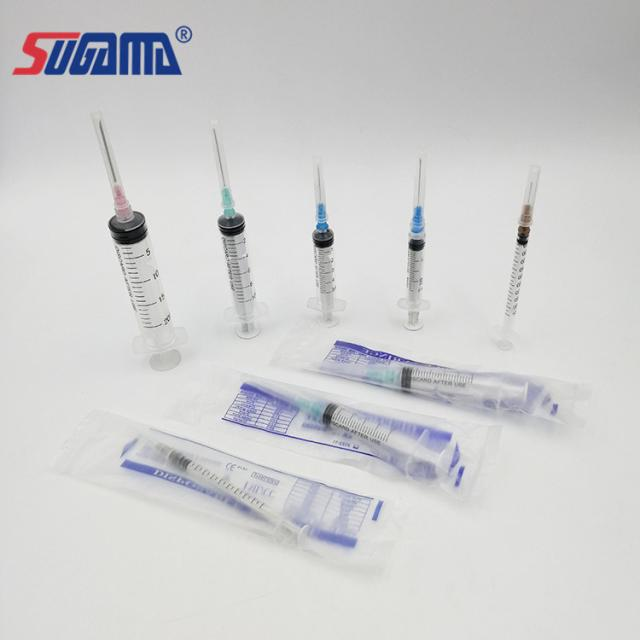B3: (37, 398, 376, 566), (54, 94, 195, 392), (220, 372, 504, 507), (315, 332, 594, 433), (180, 110, 270, 344), (283, 137, 354, 331), (374, 142, 444, 338), (483, 153, 548, 355)
